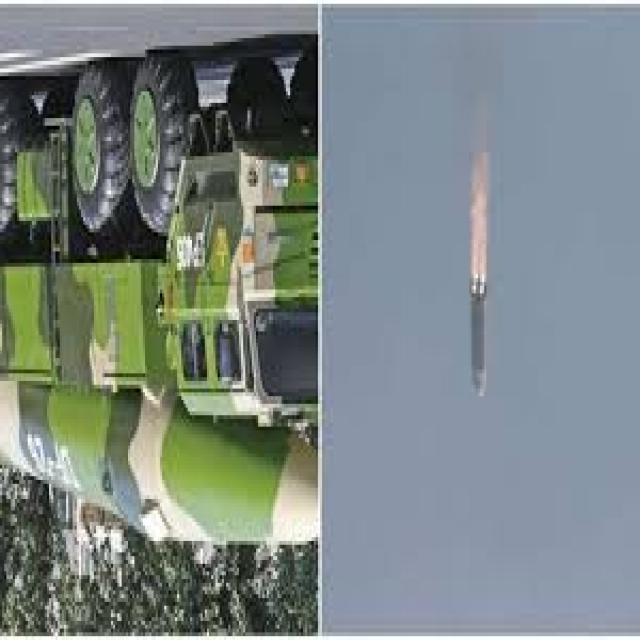Missile: (465, 268, 491, 401)
